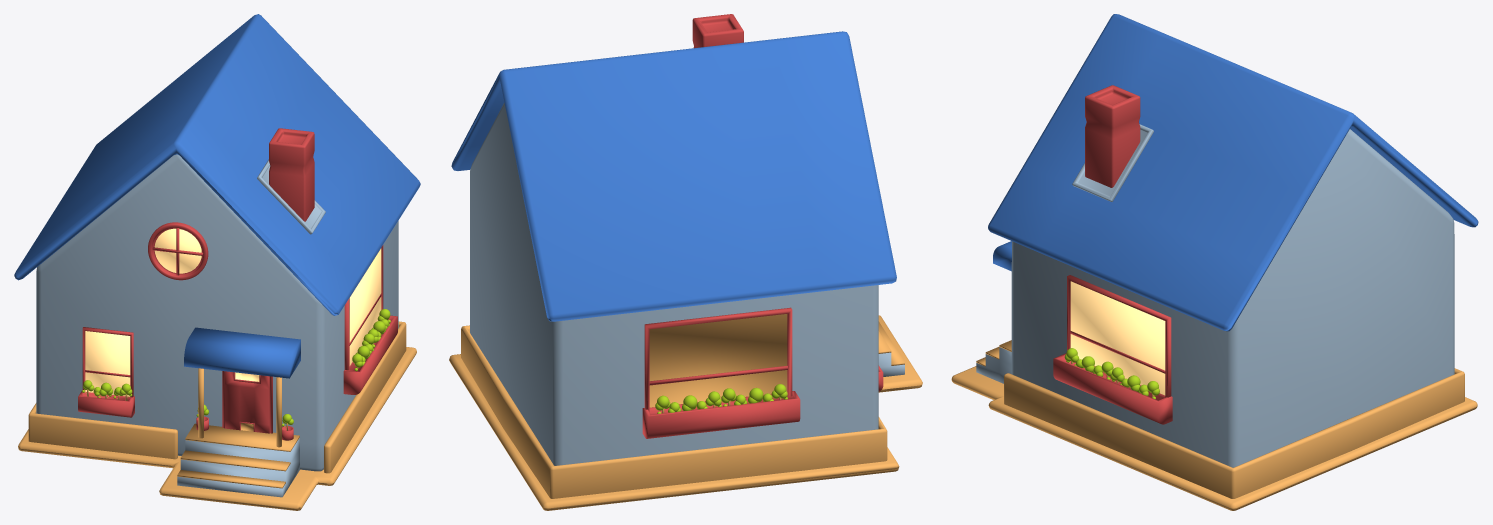
File: house.glb
The picture shows the model from 3 angles, left to right: view 1: azimuth 30°, elevation 25°; view 2: azimuth 150°, elevation 25°; view 3: azimuth 270°, elevation 25°; orthographic projection. The views are drawn at different scales.
Visible parts, largest first — view 1: wall, roof, wall.001, ladder, floor, roof.001, window.002, window, chimney, door.001, window.003, grass.001 (+3 smaller); view 2: roof, wall, window.001, wall.001, floor, grass, chimney, ladder; view 3: wall, roof, wall.001, window, floor, chimney, grass.001, ladder.
Boxes of the visible parts, x1,y1,x2,y2 form: wall: (36, 154, 398, 471); roof: (14, 14, 420, 315); wall.001: (28, 321, 406, 473); ladder: (177, 423, 299, 497); floor: (18, 347, 416, 510); roof.001: (184, 327, 300, 378); window.002: (78, 327, 134, 417); window: (343, 245, 397, 394); chimney: (269, 128, 314, 221); door.001: (222, 371, 272, 433); window.003: (148, 222, 208, 280); grass.001: (352, 309, 390, 371); roof: (451, 31, 896, 321); wall: (470, 103, 878, 465); window.001: (642, 307, 800, 438); wall.001: (461, 325, 887, 498); floor: (449, 315, 922, 510); grass: (655, 384, 787, 413); chimney: (692, 14, 743, 48); ladder: (878, 321, 904, 376); wall: (1011, 129, 1454, 467); roof: (988, 14, 1478, 331); wall.001: (1004, 368, 1464, 498); window: (1053, 275, 1172, 424); floor: (951, 366, 1477, 510); chimney: (1085, 85, 1140, 187); grass.001: (1064, 348, 1159, 399); ladder: (976, 340, 1011, 383).
Bounding box in the file's own units: 2.87 × 2.24 × 3.09.
